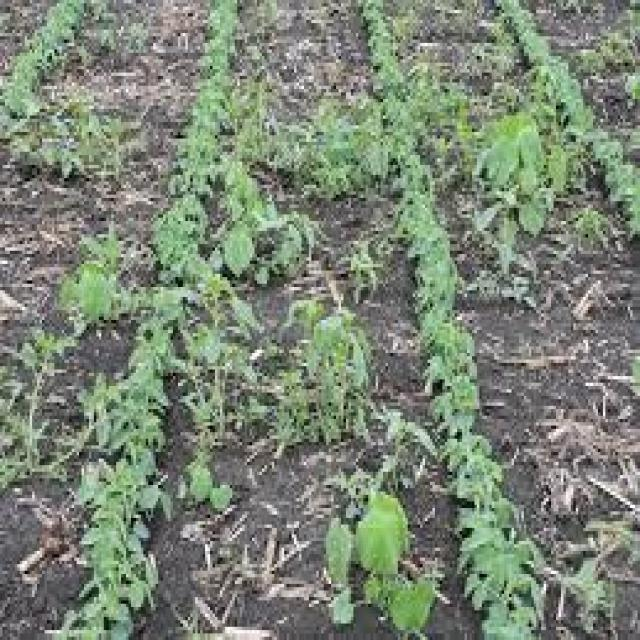row: (134, 0, 481, 640), (391, 2, 640, 640), (0, 2, 210, 640), (527, 0, 640, 168), (0, 2, 54, 97)
